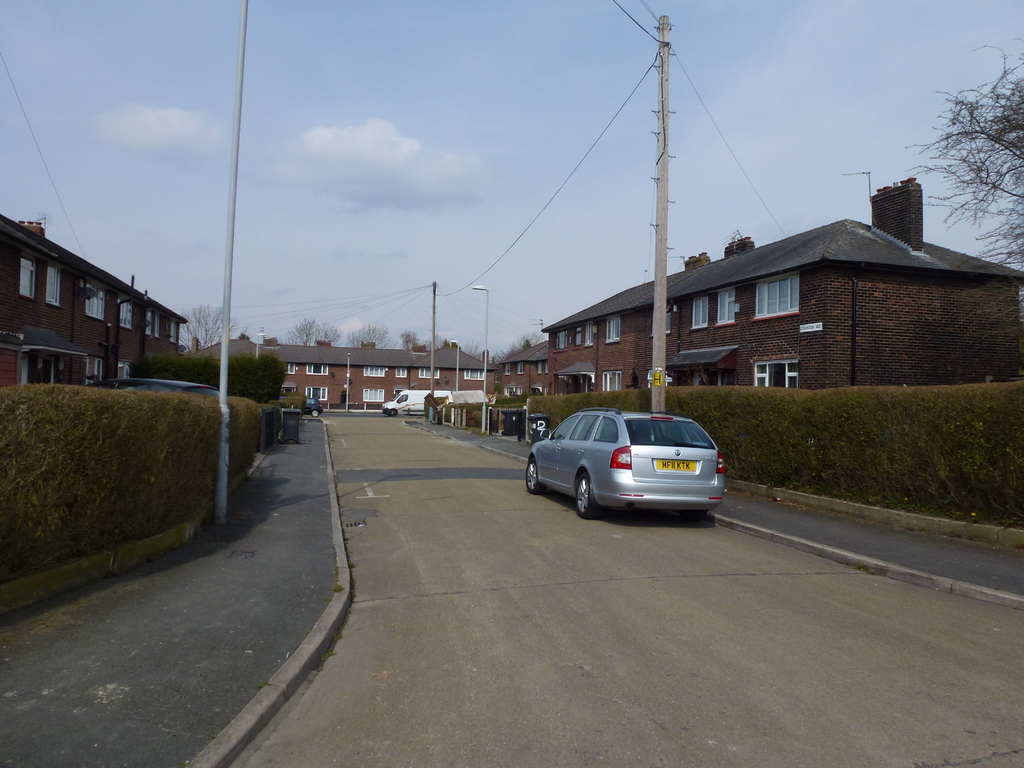license plate: (655, 456, 699, 474)
